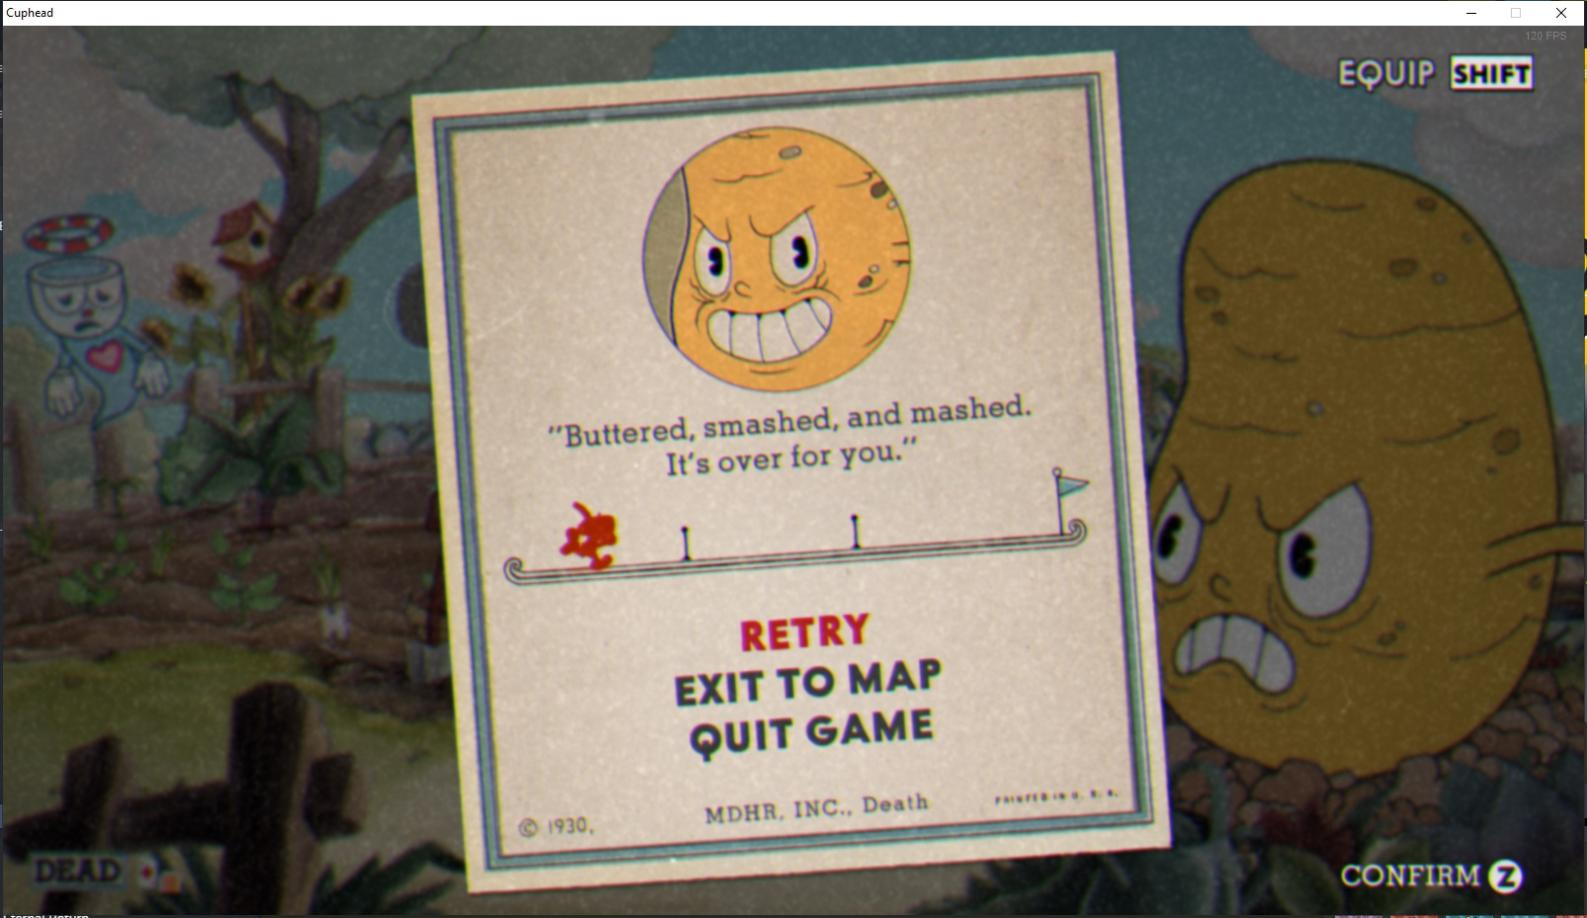player_progress: (552, 496, 624, 576)
potato_icon: (632, 119, 921, 400)
